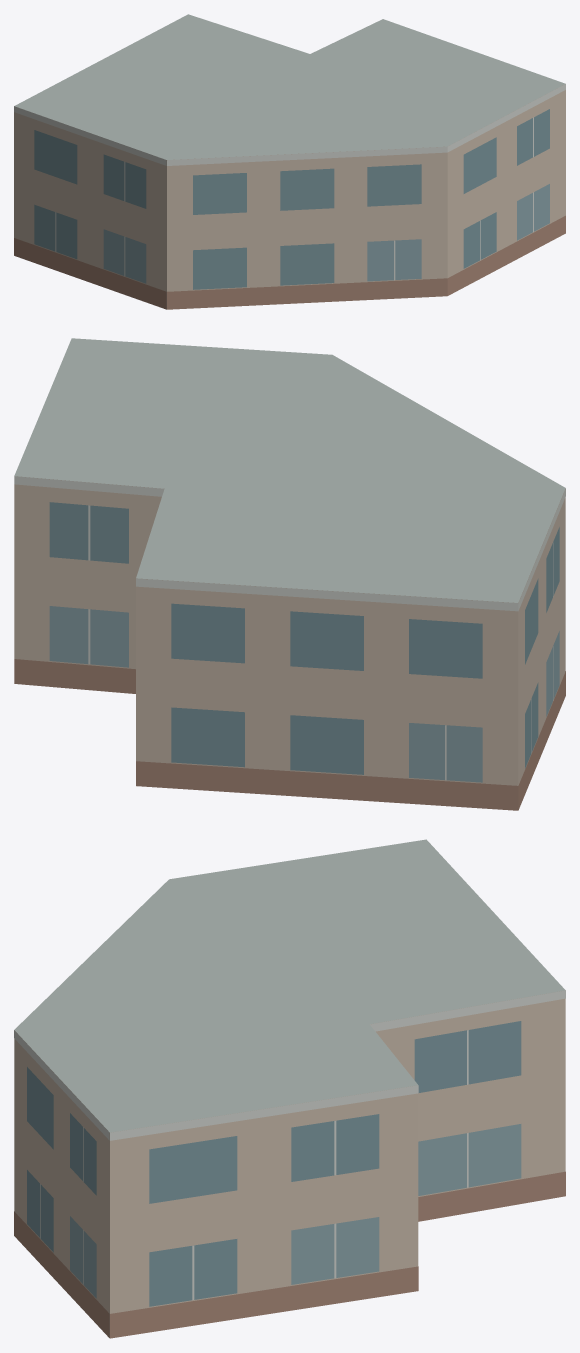
File: survey-upis-32886671.glb
3 renders of one model, top to bottom at view 1: azimuth 30°, elevation 25°; view 2: azimuth 150°, elevation 25°; view 3: azimuth 270°, elevation 25°, orthographic. The views are drawn at different scales.
Visible parts, largest first — view 1: survey-upis-32886671.tmp; view 2: survey-upis-32886671.tmp; view 3: survey-upis-32886671.tmp.
Part boxes in pixels (x1,y1,x2,y2): survey-upis-32886671.tmp: (14, 14, 565, 309); survey-upis-32886671.tmp: (14, 338, 565, 810); survey-upis-32886671.tmp: (14, 839, 565, 1338).
Size of the model in its own units: 18.65 by 6.1 by 14.83.
